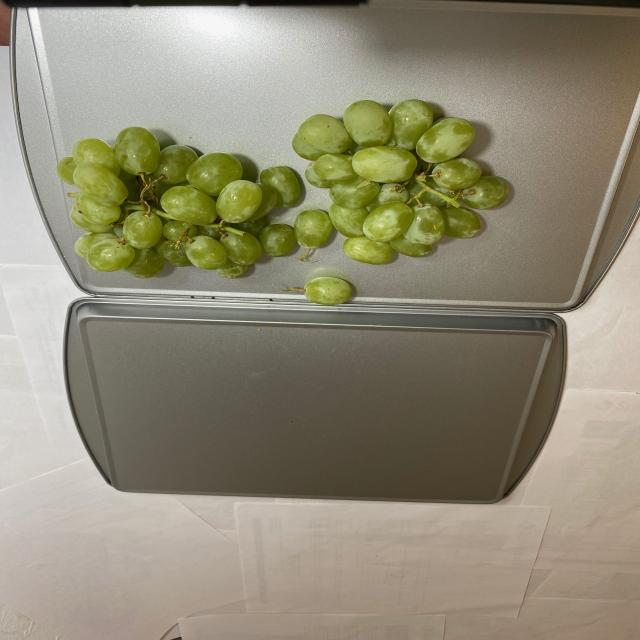grapes: (59, 94, 514, 300)
